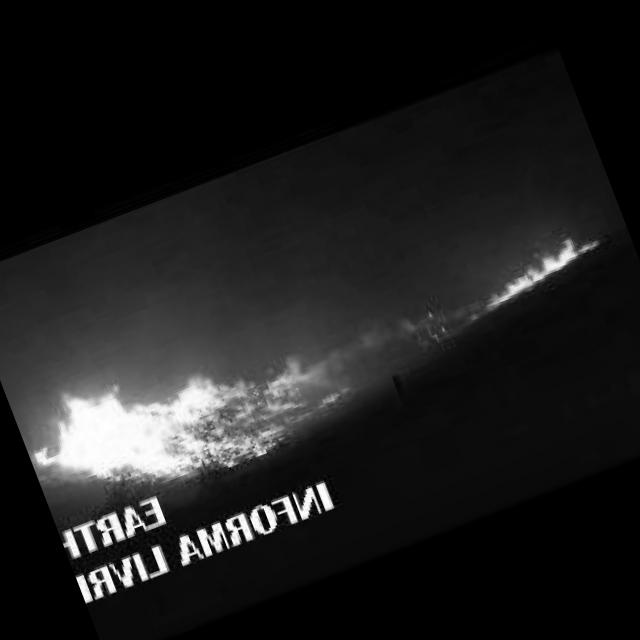fire: (13, 286, 368, 534), (474, 225, 611, 312)
